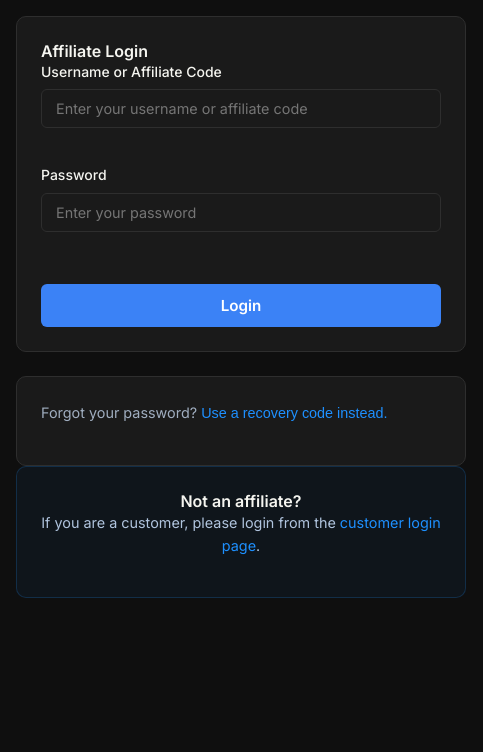
Test: affiliate.jsx — Affiliate Login Page › password recovery flow › shows step 2 (set new password) after successful code verification
Click the button "Use a recovery code instead.". click: x=294, y=413
box: [201,405,388,421]
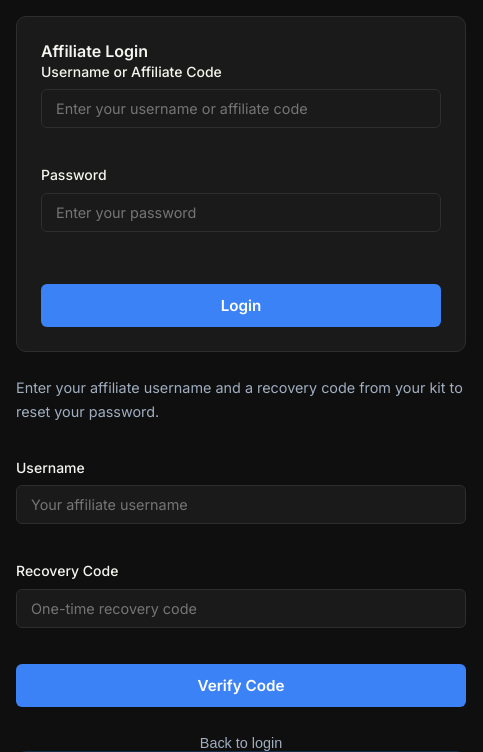
Type "affiliateuser" into the field with placeholder "Your affiliate username". click: x=241, y=505
box: [16,485,466,524]
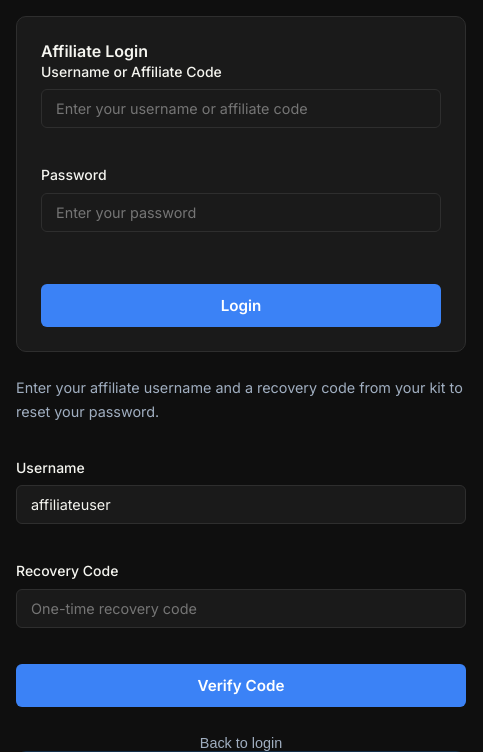
Type "RECOVERY123" into the field with placeholder "One-time recovery code". click: x=241, y=608
box: [16,588,466,628]
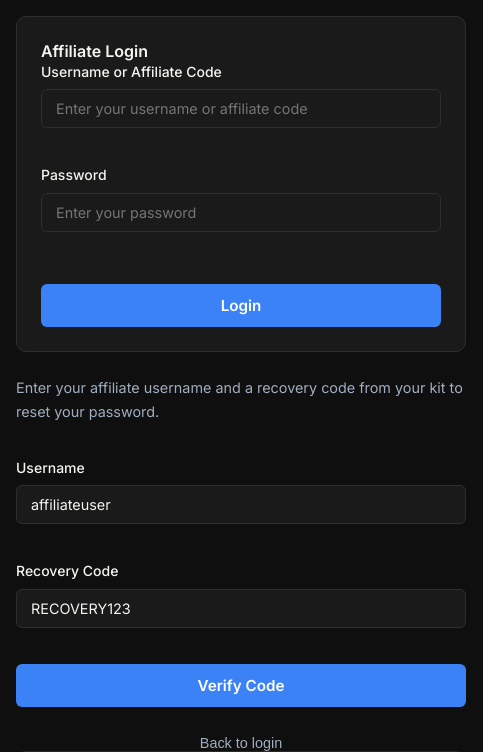
Click the button "Verify Code". click: x=241, y=685
box: [16,664,466,706]
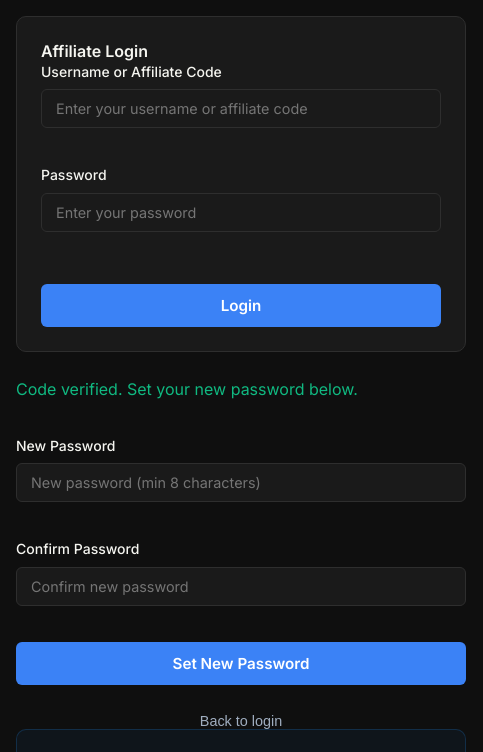
Expected: the password field with placeholder "New password (min 8 characters)" is shown, [16,463,466,502]
Expected: the button "Set New Password" is shown, [16,642,466,685]
